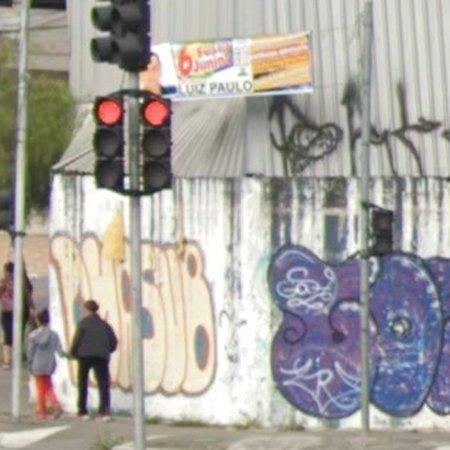traffic lights: (140, 96, 174, 192), (93, 95, 124, 192), (112, 0, 150, 74)
